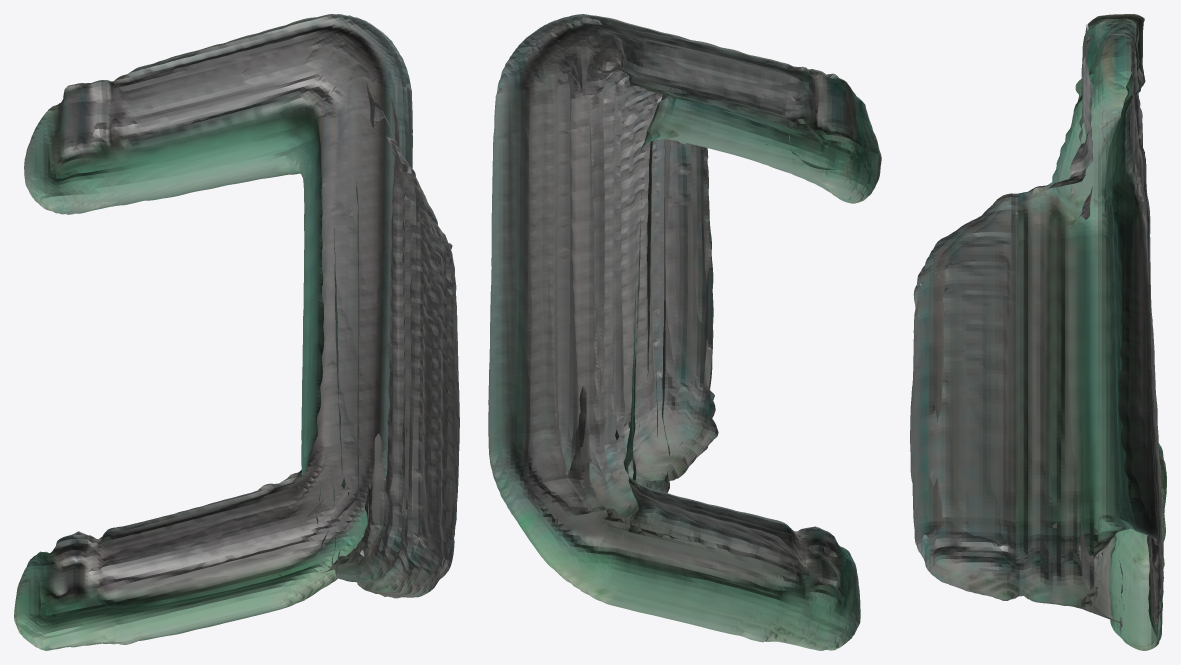
3 renders of one model, left to right at view 1: azimuth 30°, elevation 25°; view 2: azimuth 150°, elevation 25°; view 3: azimuth 270°, elevation 25°, orthographic. The views are drawn at different scales.
Parts seen in each view (by area): view 1: geometry_0; view 2: geometry_0; view 3: geometry_0.
Boxes of the visible parts, <box> form: geometry_0: <box>14,14,459,650</box>; geometry_0: <box>488,14,881,650</box>; geometry_0: <box>910,14,1166,650</box>.
Bounding box in the file's own units: 1.11 × 1.6 × 0.6847.
